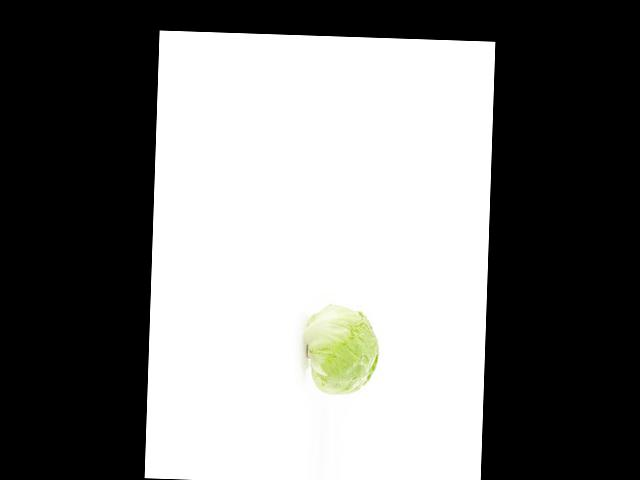lettuce: (309, 292, 401, 404)
